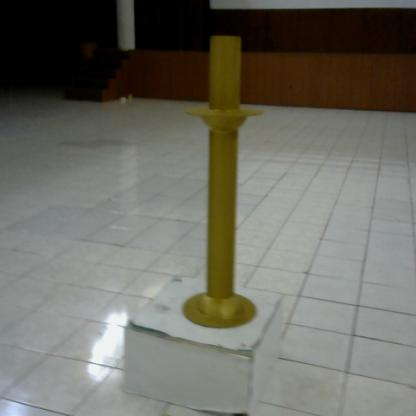pole: (179, 27, 264, 334)
